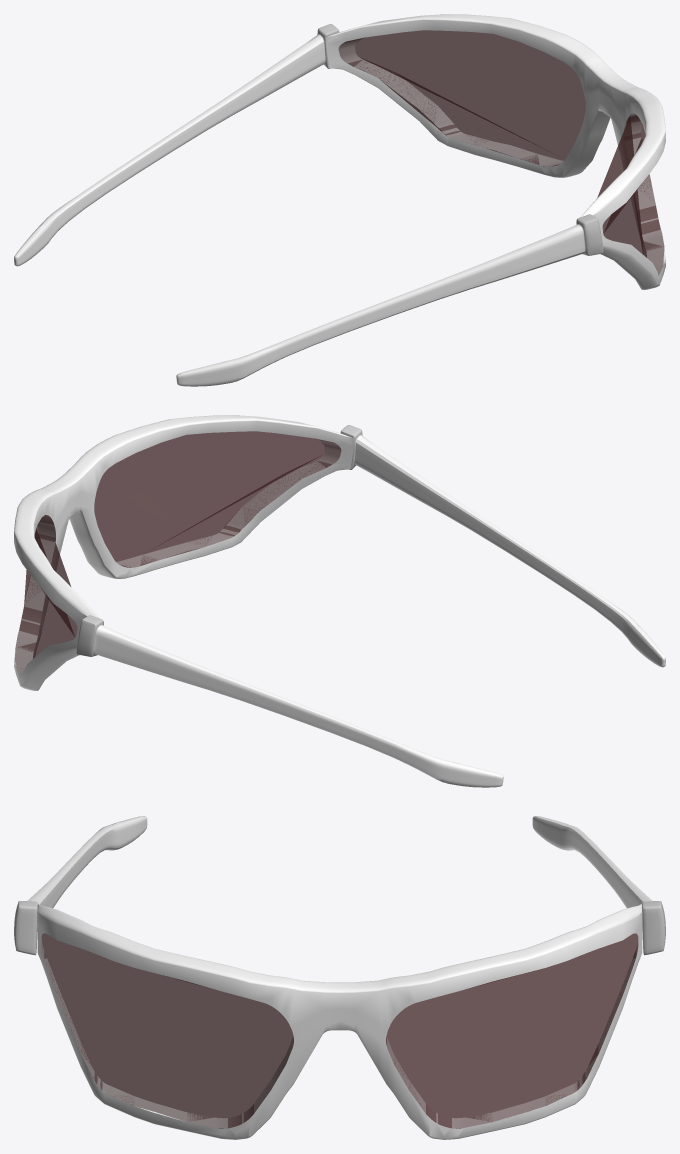
Rendered from Glasses2.glb.
3 views of the same model, one above another, from view 1: azimuth 30°, elevation 25°; view 2: azimuth 150°, elevation 25°; view 3: azimuth 270°, elevation 25° (orthographic). The views are drawn at different scales.
Parts seen in each view (by area): view 1: glass part, Eyeglas, antenna; view 2: glass part, Eyeglas, antenna; view 3: glass part, Eyeglas, antenna.
Part boxes in pixels (<box>): glass part: <box>338,30,664,275</box>; Eyeglas: <box>325,14,665,289</box>; antenna: <box>14,24,603,386</box>; glass part: <box>14,431,341,676</box>; Eyeglas: <box>14,415,354,690</box>; antenna: <box>76,425,665,787</box>; glass part: <box>41,933,638,1128</box>; Eyeglas: <box>37,904,642,1139</box>; antenna: <box>14,816,665,955</box>.
Bounding box in the file's own units: 6.3 × 1.6 × 5.6.
